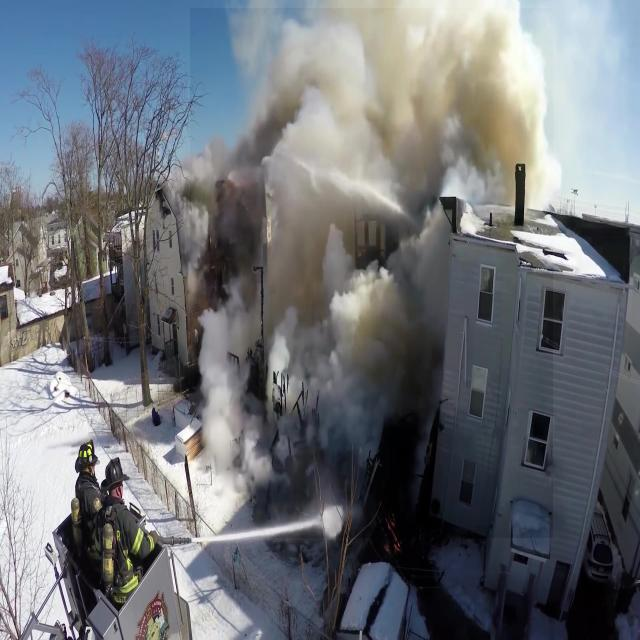Smoke: (190, 8, 553, 538)
